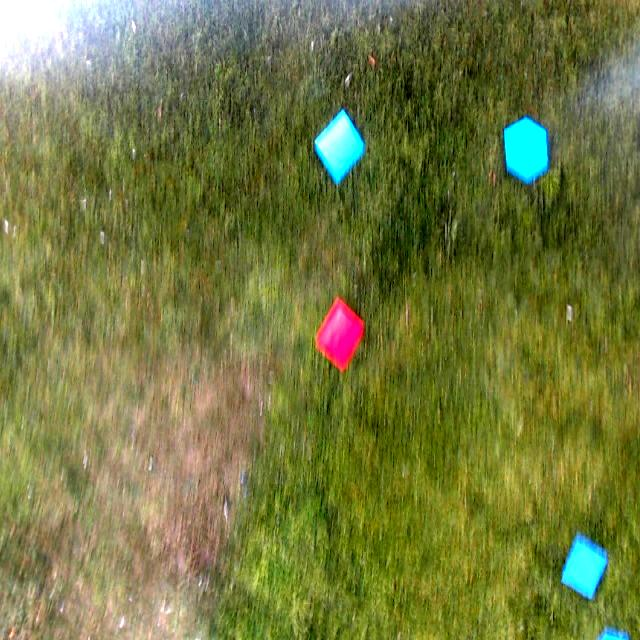blue_hexagon: (504, 117, 548, 184)
blue_square: (314, 110, 363, 184), (561, 531, 611, 599)
red_square: (315, 298, 365, 372)
